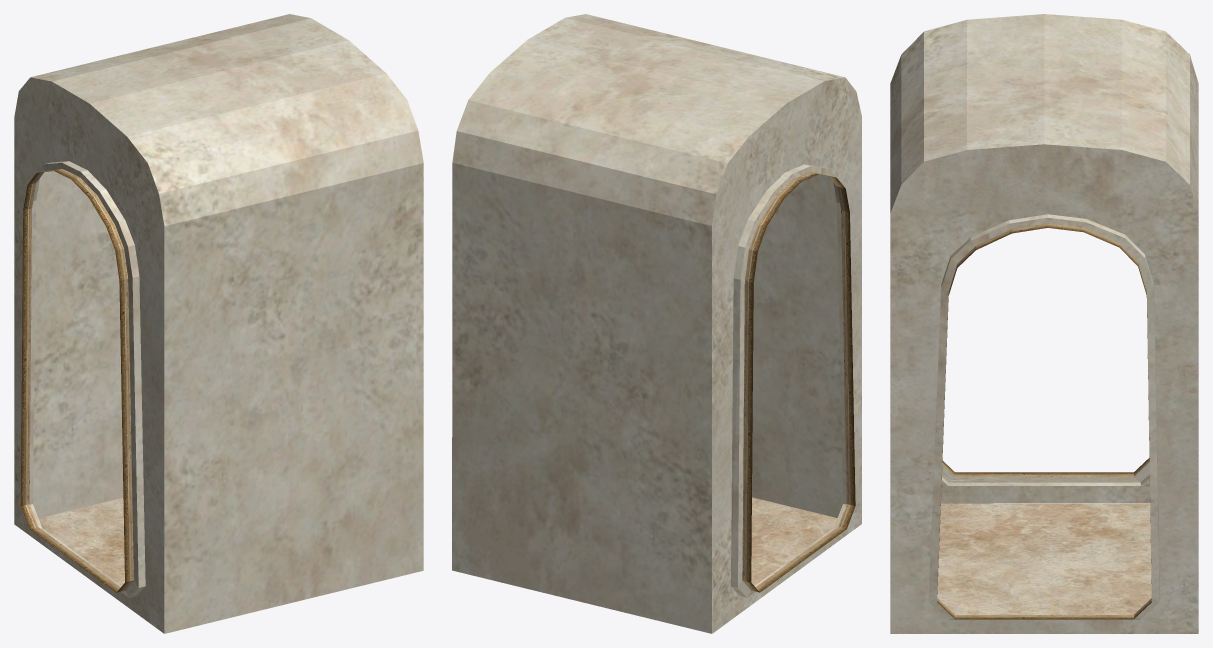
File: ply_tato_house_lg_s01_fp1_r3_shorthall_mesh_r3_shorthall.fbx
3 renders of one model, left to right at view 1: azimuth 30°, elevation 25°; view 2: azimuth 150°, elevation 25°; view 3: azimuth 270°, elevation 25°, orthographic. The views are drawn at different scales.
Visible parts, largest first — view 1: mesh_node; view 2: mesh_node; view 3: mesh_node.
Boxes of the visible parts, box(x1,y1,x2,y2) form: mesh_node: box(14, 14, 423, 633); mesh_node: box(452, 14, 861, 633); mesh_node: box(890, 14, 1198, 633).
Size of the model in its own units: 2.25 by 3.5 by 2.
